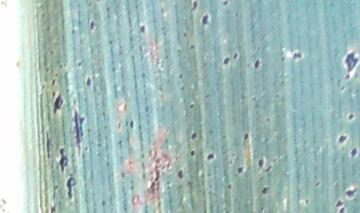tarspot: (71, 108, 86, 151), (343, 47, 358, 81), (56, 145, 69, 175), (64, 175, 76, 200), (43, 129, 52, 161), (51, 93, 65, 113), (290, 49, 304, 63), (252, 56, 262, 73), (336, 131, 348, 145), (344, 187, 358, 199), (234, 163, 246, 176), (200, 13, 211, 27), (240, 130, 251, 143), (84, 75, 93, 90), (187, 129, 199, 140), (349, 145, 358, 159), (259, 184, 270, 195), (221, 55, 232, 66), (176, 167, 184, 182), (205, 152, 217, 162), (88, 19, 97, 32), (138, 23, 147, 36), (257, 156, 265, 170), (75, 58, 85, 69), (188, 147, 197, 159), (190, 1, 200, 11), (346, 111, 355, 122), (127, 118, 136, 129), (225, 181, 233, 193), (334, 198, 344, 207), (232, 50, 239, 62), (50, 76, 57, 88), (337, 205, 347, 213), (100, 198, 107, 209), (49, 204, 57, 213), (222, 1, 229, 9)
